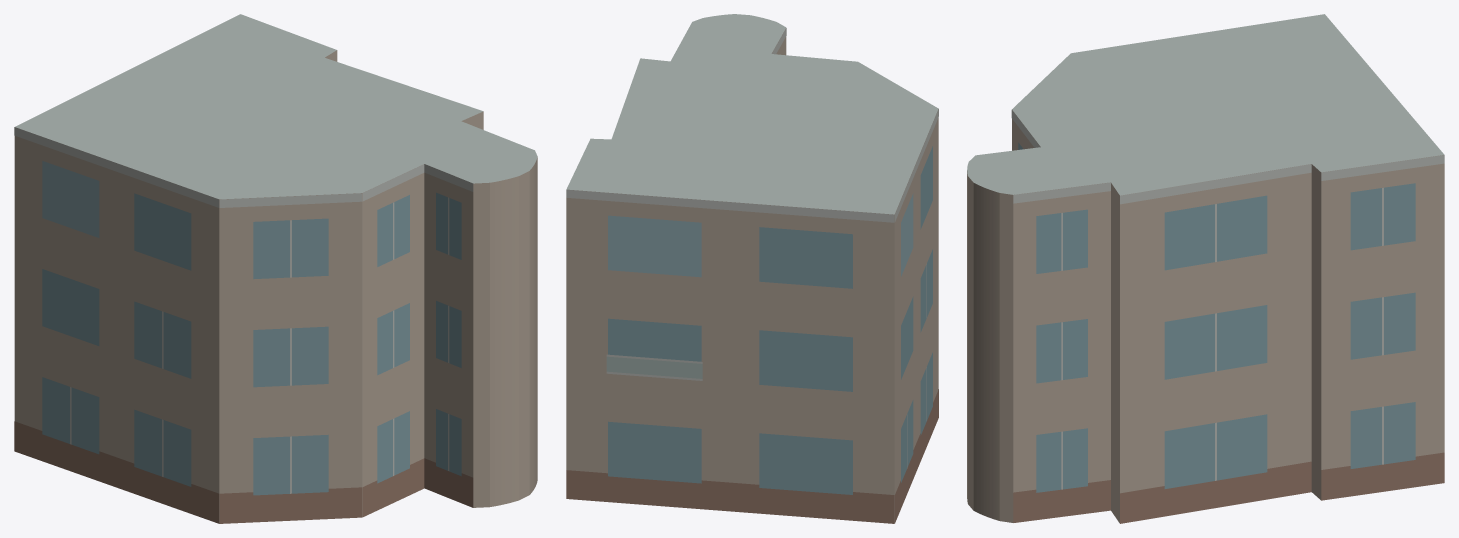
Rendered from survey-upis-32973053.glb.
The picture shows the model from 3 angles, left to right: view 1: azimuth 30°, elevation 25°; view 2: azimuth 150°, elevation 25°; view 3: azimuth 270°, elevation 25°; orthographic projection. The views are drawn at different scales.
Visible parts, largest first — view 1: survey-upis-32973053.tmp; view 2: survey-upis-32973053.tmp; view 3: survey-upis-32973053.tmp.
Boxes of the visible parts, x1,y1,x2,y2 form: survey-upis-32973053.tmp: (14, 14, 537, 523); survey-upis-32973053.tmp: (566, 14, 938, 523); survey-upis-32973053.tmp: (967, 14, 1444, 523).
Bounding box in the file's own units: 10.87 × 9.15 × 12.07.
